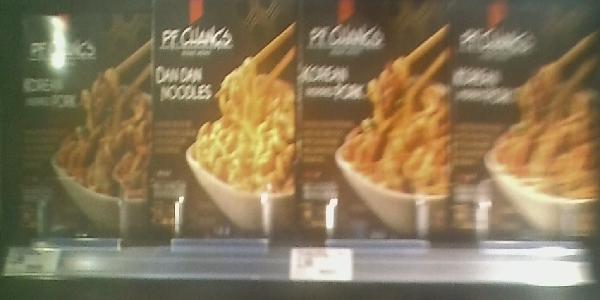pizza1: (297, 1, 449, 249), (452, 1, 600, 244), (150, 1, 294, 244), (18, 11, 150, 246)
